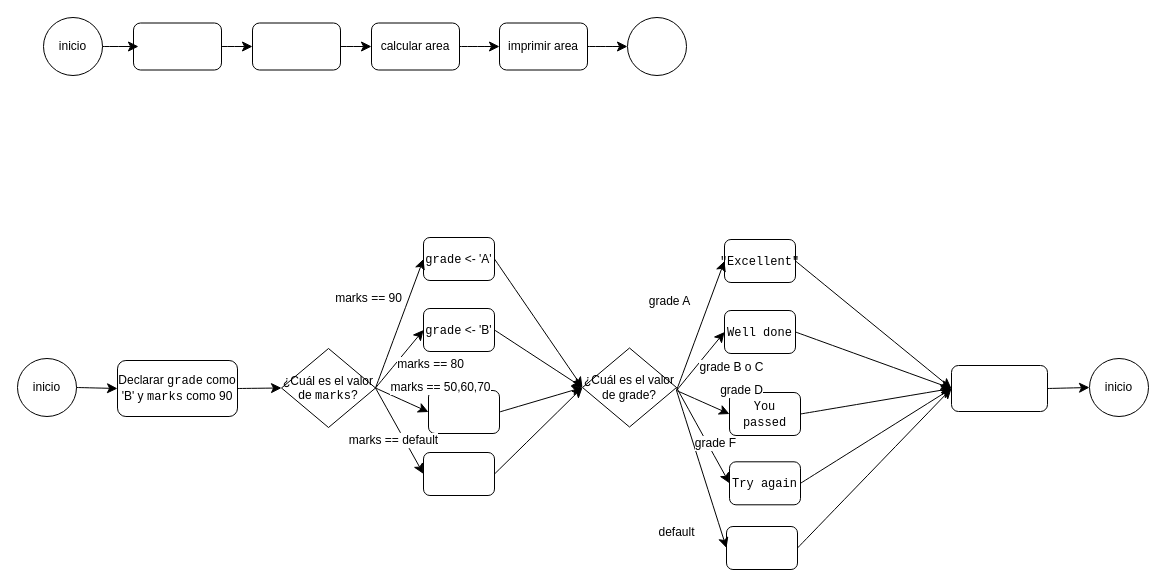
The diagram is 1166 pixels wide and 587 high, and some of its shapes have lost their labels. The centre of each missing label's shape, as x and y in pixels:
declarar variable: point 296,46
Definir cte: point 177,46
fin: point 656,46
grade <- 'C': point 464,412
grade <- 'D': point 458,474
Imprimir 'Your grade is' + grade": point 999,388
Invalid: point 762,548
